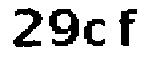2: (9, 5, 45, 52)
9: (44, 6, 82, 51)
c: (85, 17, 110, 48)
f: (115, 4, 143, 50)
